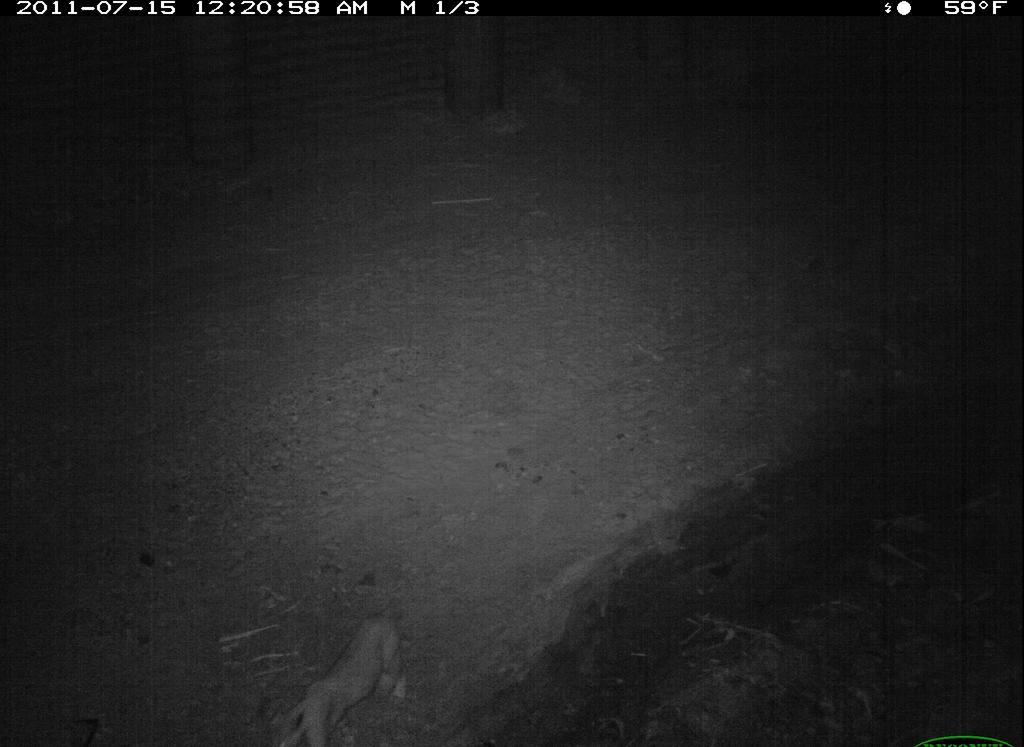bobcat: (251, 605, 420, 747)
